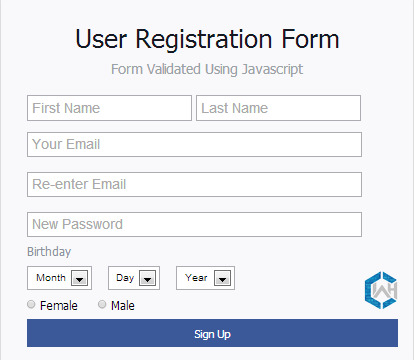_form_: (1, 1, 414, 360)
button: (25, 318, 399, 349)
field: (26, 131, 362, 159), (25, 171, 363, 198), (26, 212, 363, 238), (196, 94, 363, 122), (26, 94, 192, 121)
radio: (96, 298, 108, 310), (27, 299, 38, 310)
select: (26, 265, 94, 290), (175, 266, 235, 291), (107, 265, 160, 291)
